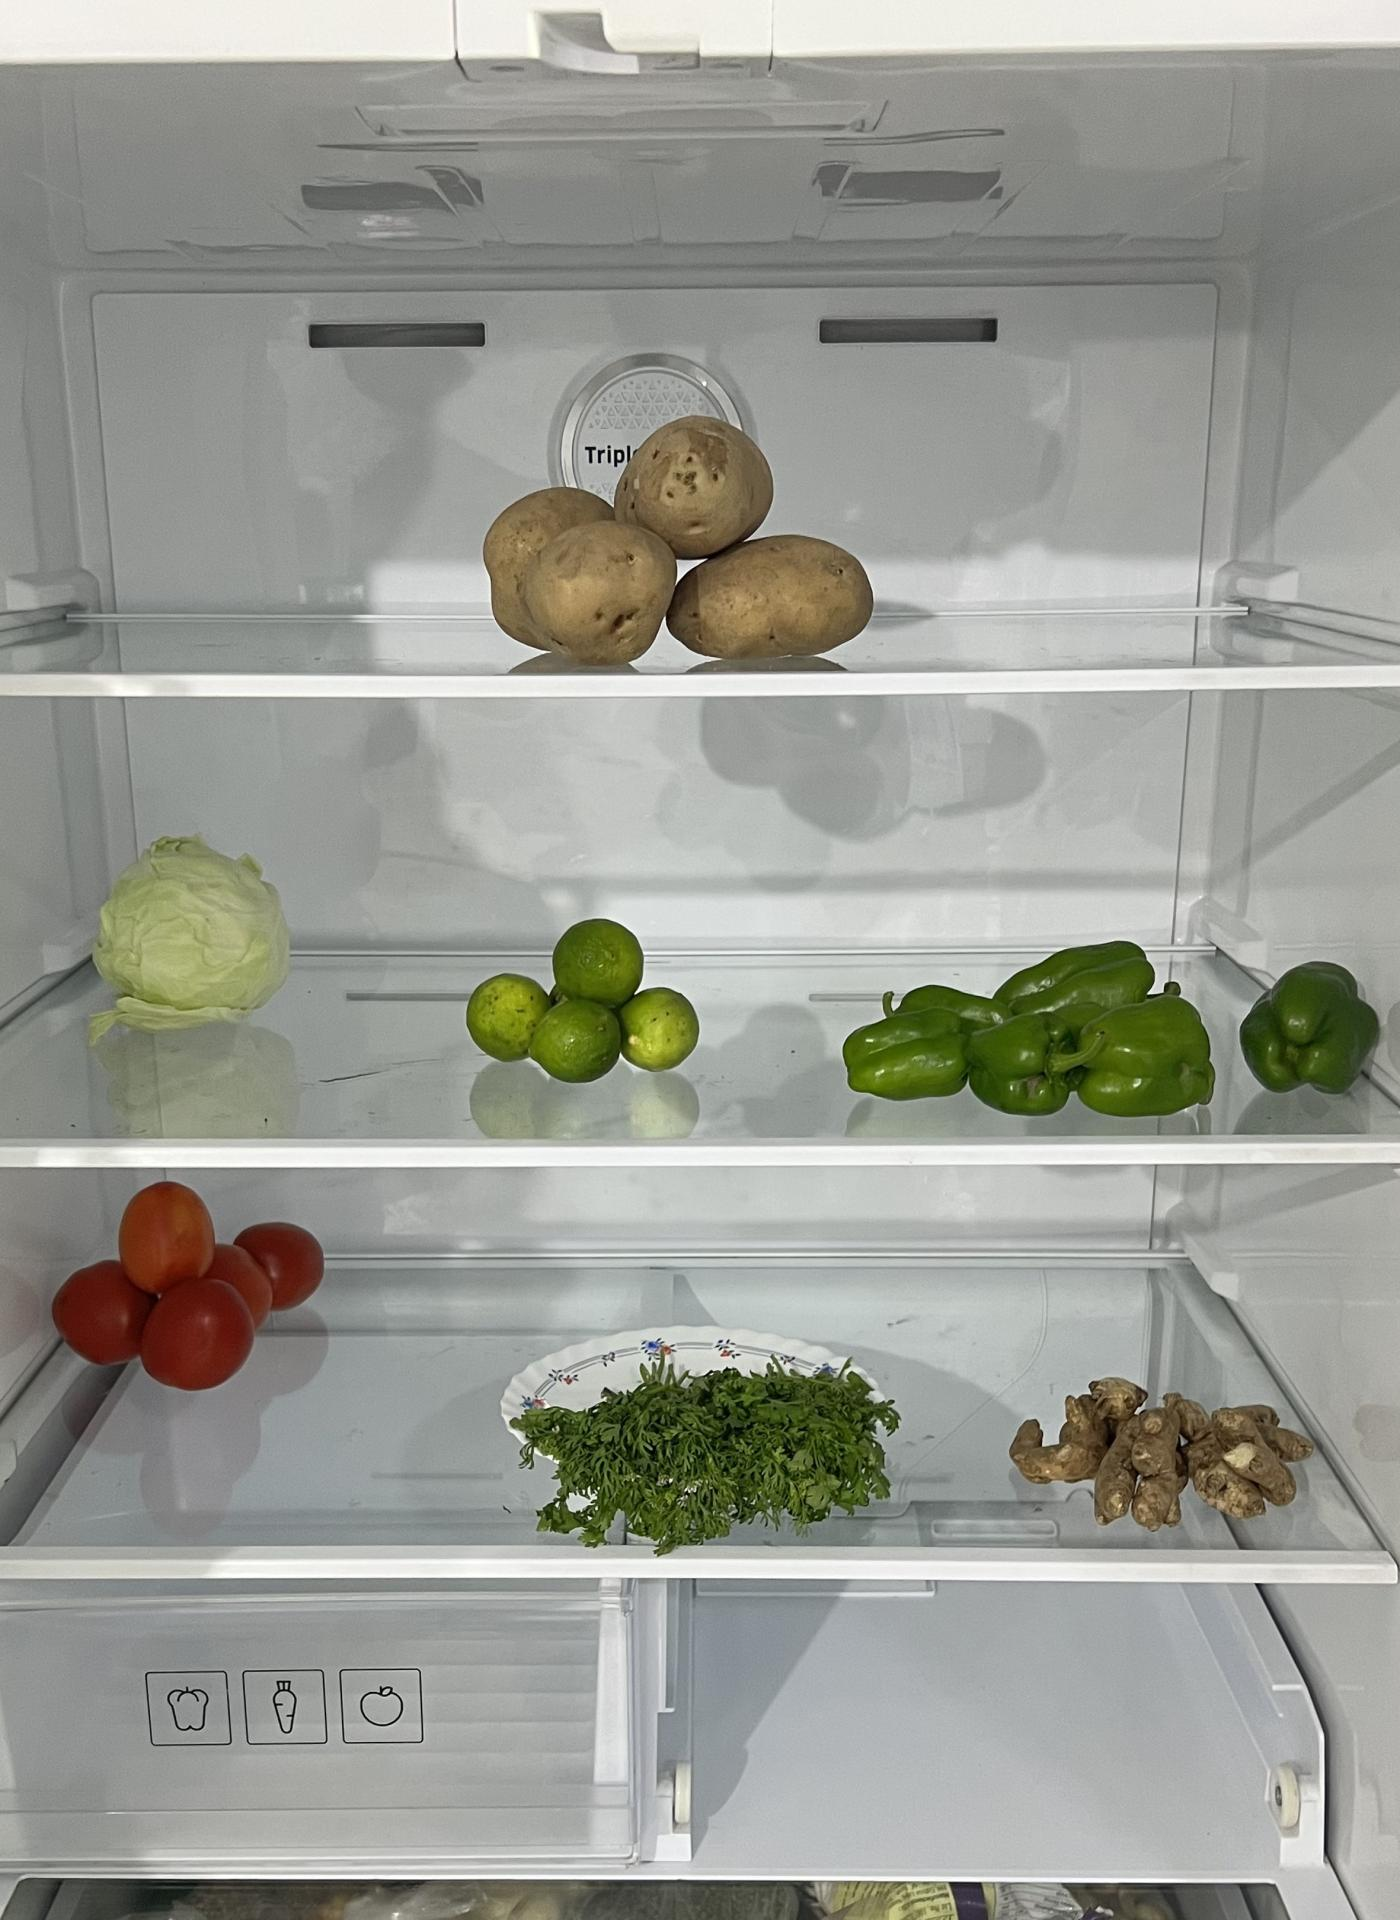cabbage: (92, 830, 289, 1023)
capsicum: (847, 941, 1378, 1115)
coriander: (507, 1348, 902, 1541)
ginger: (1009, 1373, 1319, 1534)
lemon: (467, 912, 695, 1079)
potato: (482, 410, 869, 666)
tomato: (55, 1181, 319, 1392)
